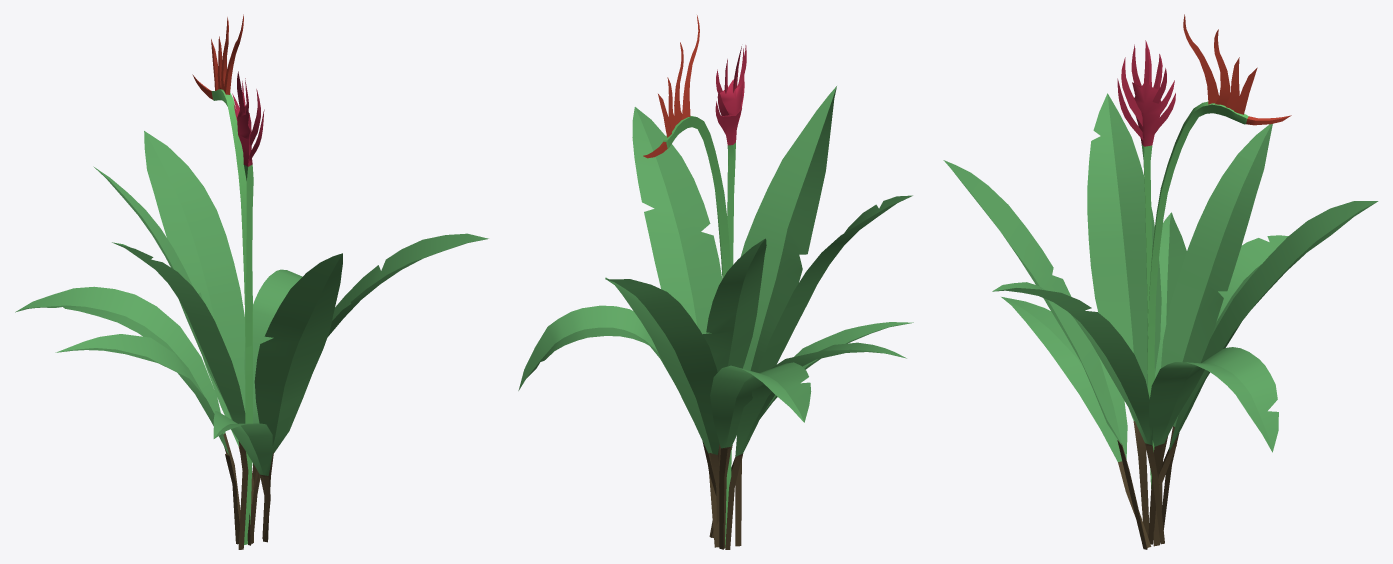
The model's file is plant_flower_B.fbx.
The picture shows the model from 3 angles, left to right: view 1: azimuth 30°, elevation 25°; view 2: azimuth 150°, elevation 25°; view 3: azimuth 270°, elevation 25°; orthographic projection. The views are drawn at different scales.
Visible parts, largest first — view 1: plant_flower_B_leaf_C, plant_flower_B_leaf_A, plant_flower_B_leaf_G, plant_flower_B_leaf_B, plant_flower_B_leaf_I, plant_flower_B_leaf_F, plant_B_stem_A, plant_flower_B_leaf_D, plant_flower_B_leaf_J, plant_B_stem_B, plant_flower_B_leaf_E; view 2: plant_flower_B_leaf_F, plant_flower_B_leaf_A, plant_flower_B_leaf_C, plant_flower_B_leaf_G, plant_flower_B_leaf_E, plant_flower_B_leaf_D, plant_flower_B_leaf_B, plant_flower_B_leaf_I, plant_B_stem_A, plant_B_stem_B, plant_flower_B_leaf_J, plant_B_flower_bud_A; view 3: plant_flower_B_leaf_B, plant_flower_B_leaf_E, plant_flower_B_leaf_D, plant_flower_B_leaf_A, plant_flower_B_leaf_C, plant_flower_B_leaf_F, plant_flower_B_leaf_J, plant_B_stem_A, plant_flower_B_leaf_G, plant_B_stem_B, plant_flower_B_leaf_I, plant_B_flower_bud_A (+1 smaller).
Boxes of the visible parts, left/top/right/bottom form: plant_flower_B_leaf_C: left=144, top=131, right=253, bottom=542; plant_flower_B_leaf_A: left=254, top=253, right=342, bottom=542; plant_flower_B_leaf_G: left=15, top=286, right=240, bottom=533; plant_flower_B_leaf_B: left=112, top=242, right=248, bottom=549; plant_flower_B_leaf_I: left=55, top=334, right=239, bottom=544; plant_flower_B_leaf_F: left=253, top=233, right=488, bottom=492; plant_B_stem_A: left=192, top=74, right=252, bottom=544; plant_flower_B_leaf_D: left=244, top=269, right=302, bottom=543; plant_flower_B_leaf_J: left=213, top=411, right=272, bottom=538; plant_B_stem_B: left=237, top=105, right=253, bottom=347; plant_flower_B_leaf_E: left=93, top=166, right=251, bottom=545; plant_flower_B_leaf_F: left=632, top=107, right=722, bottom=547; plant_flower_B_leaf_A: left=709, top=86, right=836, bottom=537; plant_flower_B_leaf_C: left=605, top=277, right=719, bottom=525; plant_flower_B_leaf_G: left=710, top=362, right=811, bottom=549; plant_flower_B_leaf_E: left=702, top=238, right=766, bottom=487; plant_flower_B_leaf_D: left=518, top=305, right=716, bottom=495; plant_flower_B_leaf_B: left=735, top=195, right=912, bottom=546; plant_flower_B_leaf_I: left=725, top=342, right=906, bottom=549; plant_B_stem_A: left=643, top=115, right=731, bottom=547; plant_B_stem_B: left=720, top=79, right=744, bottom=267; plant_flower_B_leaf_J: left=711, top=322, right=913, bottom=537; plant_B_flower_bud_A: left=682, top=15, right=699, bottom=119; plant_flower_B_leaf_B: left=1087, top=93, right=1161, bottom=536; plant_flower_B_leaf_E: left=1150, top=124, right=1272, bottom=544; plant_flower_B_leaf_D: left=1148, top=347, right=1278, bottom=543; plant_flower_B_leaf_A: left=943, top=160, right=1147, bottom=549; plant_flower_B_leaf_C: left=1153, top=201, right=1378, bottom=546; plant_flower_B_leaf_F: left=992, top=282, right=1164, bottom=544; plant_flower_B_leaf_J: left=1001, top=297, right=1151, bottom=547; plant_B_stem_A: left=1147, top=101, right=1291, bottom=488; plant_flower_B_leaf_G: left=1160, top=235, right=1288, bottom=542; plant_B_stem_B: left=1132, top=81, right=1163, bottom=377; plant_flower_B_leaf_I: left=1155, top=212, right=1186, bottom=510; plant_B_flower_bud_A: left=1183, top=14, right=1219, bottom=104.
Size of the model in its own units: 94.41 by 134 by 98.87.
